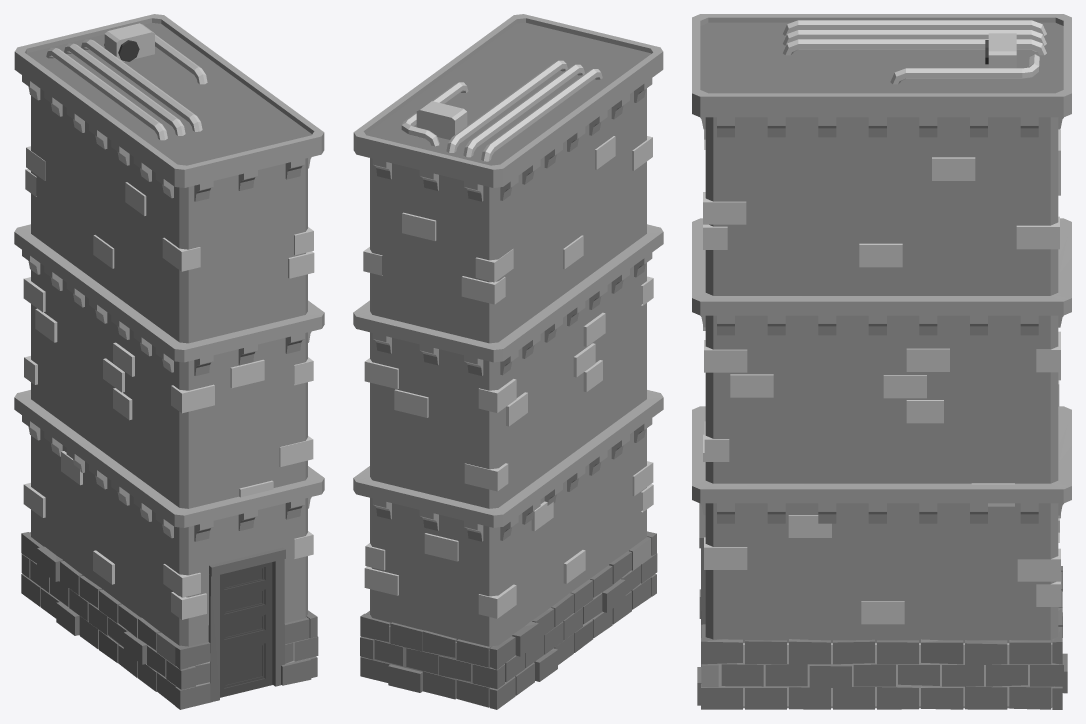
The model's file is qtb_3story_slim.fbx.
The picture shows the model from 3 angles, left to right: view 1: azimuth 30°, elevation 25°; view 2: azimuth 150°, elevation 25°; view 3: azimuth 270°, elevation 25°; orthographic projection. The views are drawn at different scales.
Parts seen in each view (by area): view 1: qtb_3story_slim_LOD0; view 2: qtb_3story_slim_LOD0; view 3: qtb_3story_slim_LOD0.
Part boxes in pixels (x1,y1,x2,y2): qtb_3story_slim_LOD0: (14,14,324,709); qtb_3story_slim_LOD0: (353,14,663,709); qtb_3story_slim_LOD0: (692,14,1071,709).
Size of what is drawn, in the model's own units: 3.01 by 10.78 by 5.82.
